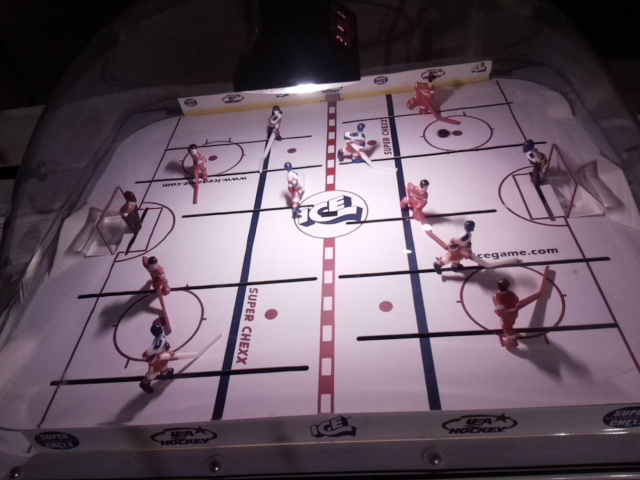puck: (437, 129, 450, 138)
